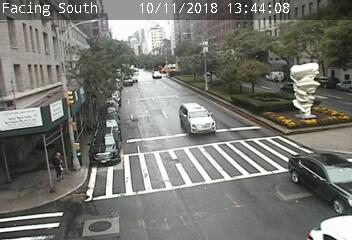car: (289, 152, 352, 213), (178, 102, 216, 136), (89, 128, 120, 164), (280, 82, 300, 95)
